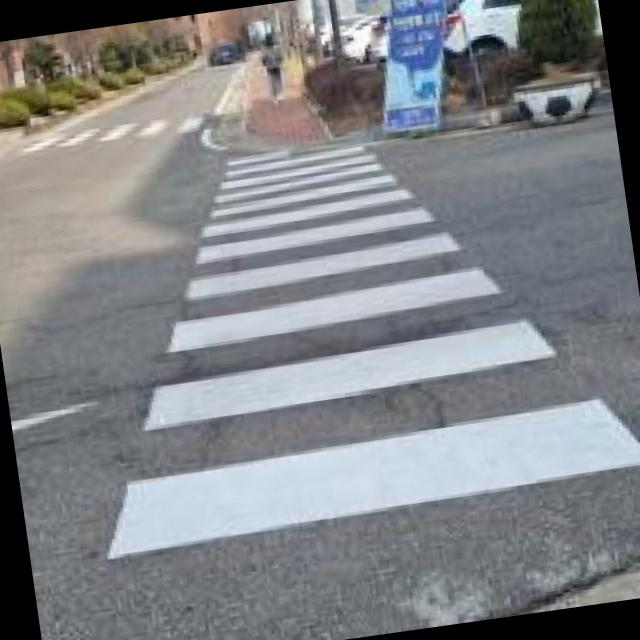zebra: (93, 142, 640, 577), (14, 103, 215, 163)
